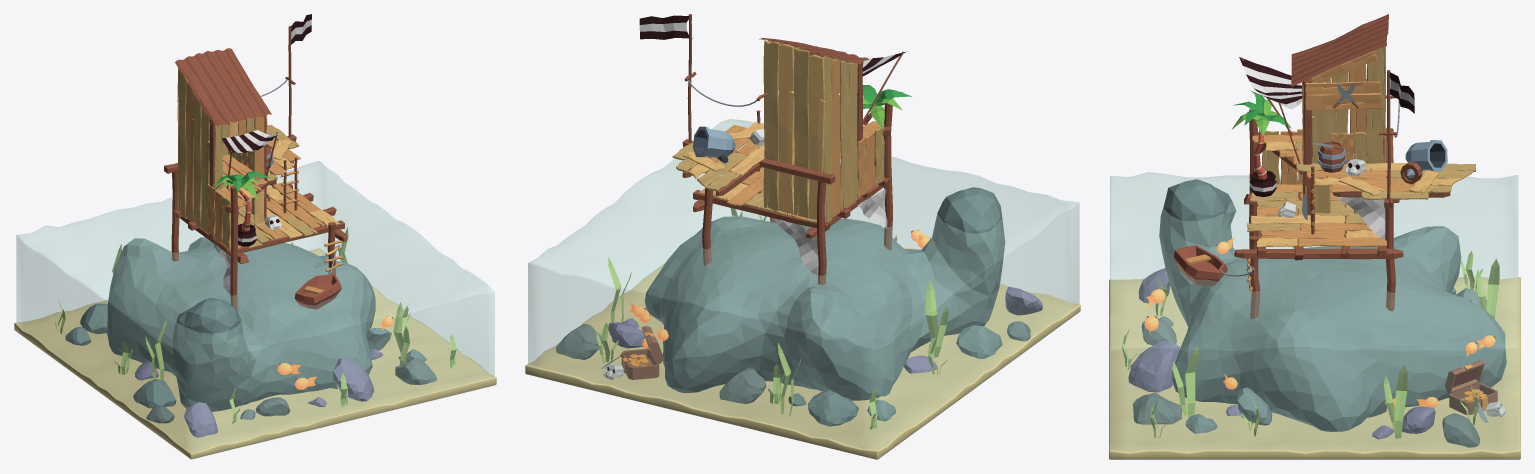
The model's file is pirate-base.glb.
3 renders of one model, left to right at view 1: azimuth 30°, elevation 25°; view 2: azimuth 150°, elevation 25°; view 3: azimuth 270°, elevation 25°, orthographic. The views are drawn at different scales.
Visible parts, largest first — view 1: Plane.008, Icosphere, dno, Plane, Cube.029, Icosphere.019, Cube.027, Cube.028, Cube.075, Cube.026, Cylinder.002, Icosphere.010 (+9 smaller); view 2: Plane.008, Icosphere, dno, Cube.024, Cube.023, Cube.025, Cube.022, Cube.027, Icosphere.007, Cube.029, Cube.028, Cube.026 (+20 smaller); view 3: Plane.008, Icosphere, dno, Plane, Icosphere.019, Plane.001, Cube.033, Cube.021, Cube.075, Icosphere.004, Cube.030, Cube.047 (+37 smaller).
Boxes of the visible parts, x1,y1,x2,y2 form: Plane.008: (16, 161, 494, 459); Icosphere: (107, 237, 375, 411); dno: (14, 248, 496, 459); Plane: (175, 48, 271, 126); Cube.029: (178, 69, 186, 218); Icosphere.019: (333, 357, 374, 401); Cube.027: (193, 93, 201, 228); Cube.028: (186, 80, 193, 221); Cube.075: (294, 274, 341, 309); Cube.026: (201, 108, 209, 234); Cylinder.002: (230, 185, 237, 311); Icosphere.010: (133, 379, 176, 408); Plane.008: (528, 119, 1079, 449); Icosphere: (645, 187, 1005, 400); dno: (525, 263, 1080, 459); Cube.024: (778, 43, 794, 214); Cube.023: (793, 48, 809, 218); Cube.025: (763, 40, 779, 211); Cube.022: (808, 55, 824, 219); Cube.027: (840, 61, 849, 210); Icosphere.007: (808, 390, 858, 426); Cube.029: (822, 56, 832, 221); Cube.028: (831, 58, 840, 217); Cube.026: (848, 62, 858, 205); Plane.008: (1110, 172, 1517, 451); Icosphere: (1159, 179, 1506, 431); dno: (1109, 277, 1520, 459); Plane: (1291, 14, 1388, 86); Icosphere.019: (1128, 341, 1179, 392); Plane.001: (1239, 57, 1302, 109); Cube.033: (1366, 47, 1383, 163); Cube.021: (1234, 248, 1403, 259); Cube.075: (1174, 245, 1227, 286); Icosphere.004: (1132, 393, 1182, 424); Cube.030: (1312, 82, 1330, 213); Cube.047: (1305, 93, 1380, 110).
Size of the model in its own units: 16.89 by 15.94 by 16.89.
